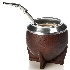guampa: (1, 1, 68, 69)
